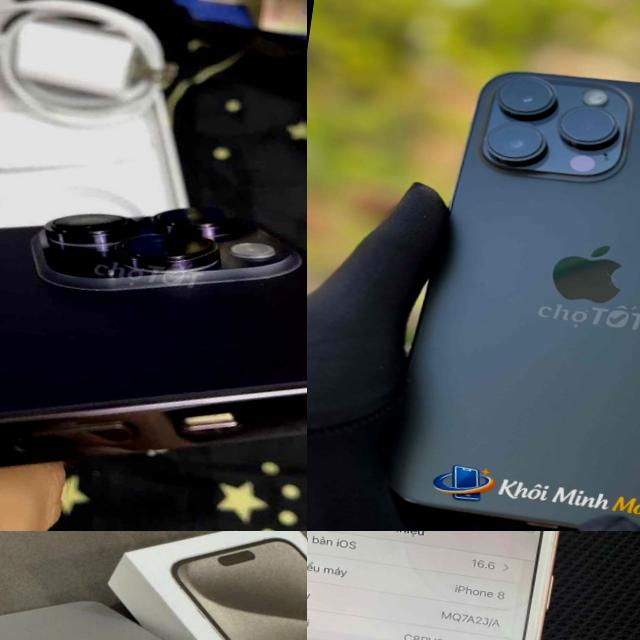gen_14: (387, 43, 640, 531), (0, 147, 307, 531)
gen_15: (0, 569, 307, 640)
gen_7_8: (307, 531, 571, 640)
